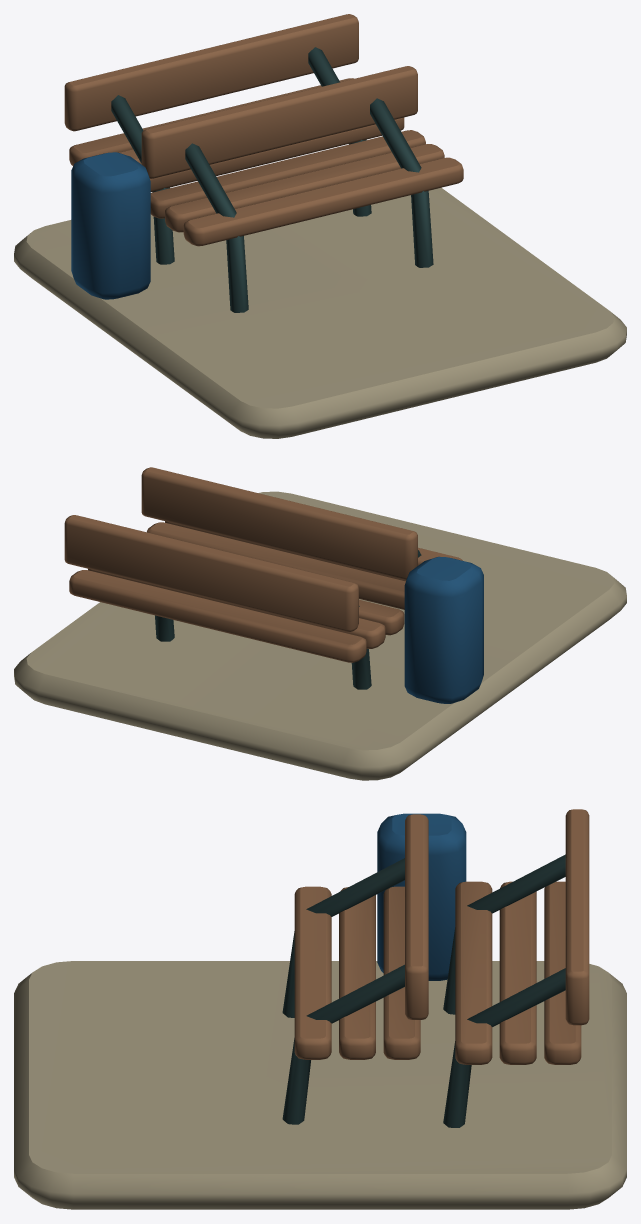
File: metro_truck_park_1.glb
3 renders of one model, top to bottom at view 1: azimuth 30°, elevation 25°; view 2: azimuth 150°, elevation 25°; view 3: azimuth 270°, elevation 25°, orthographic. The views are drawn at different scales.
Visible parts, largest first — view 1: TruckPark1; view 2: TruckPark1; view 3: TruckPark1.
Part boxes in pixels (x1,y1,x2,y2): TruckPark1: (14, 14, 626, 438); TruckPark1: (14, 467, 626, 780); TruckPark1: (14, 809, 626, 1209).
Size of the model in its own units: 2.16 by 0.95 by 2.48.
